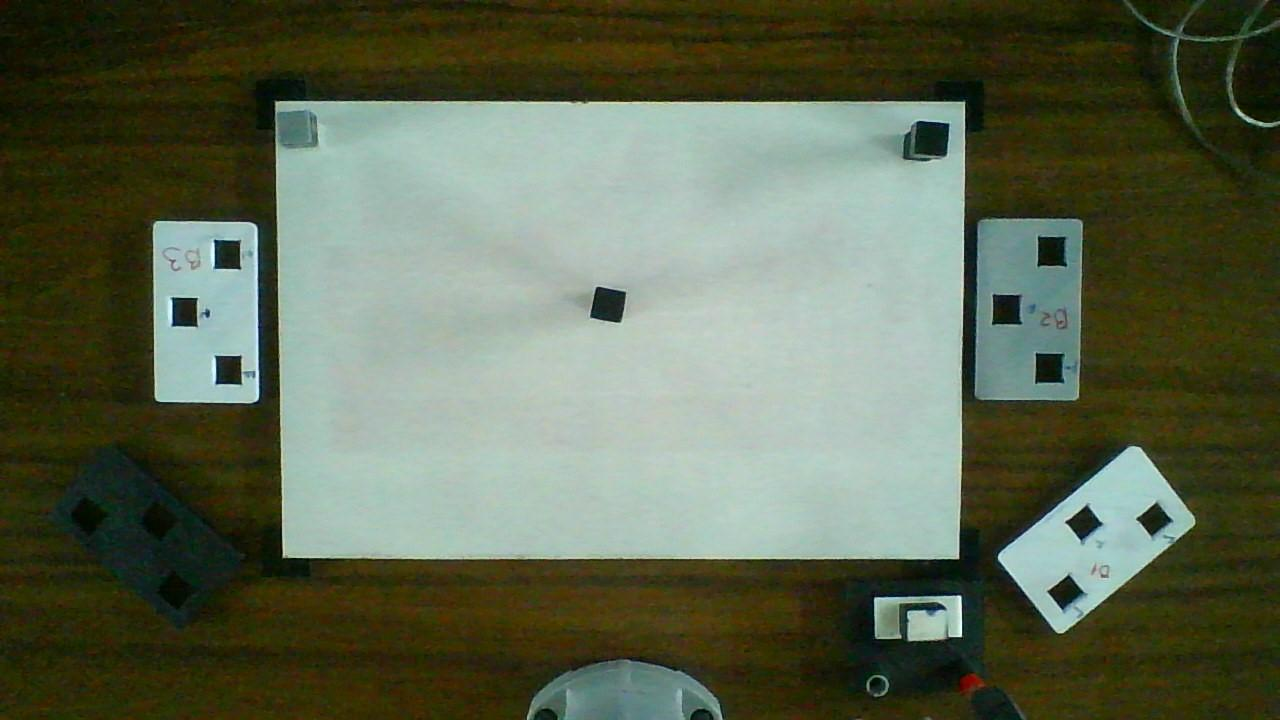peca_preta: (591, 286, 626, 322), (915, 121, 948, 154), (277, 112, 310, 143)
